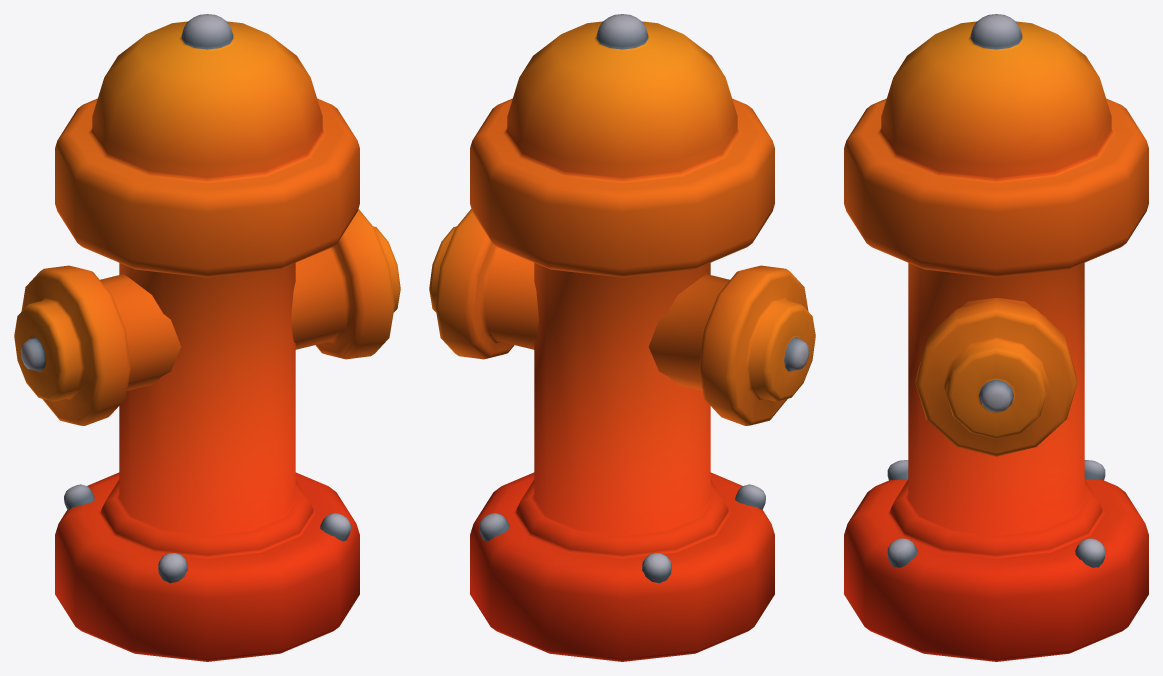
Rendered from mct_prop_hydrant.fbx.
The picture shows the model from 3 angles, left to right: view 1: azimuth 30°, elevation 25°; view 2: azimuth 150°, elevation 25°; view 3: azimuth 270°, elevation 25°; orthographic projection.
Parts seen in each view (by area): view 1: mct_hydrant; view 2: mct_hydrant; view 3: mct_hydrant.
Boxes of the visible parts, <box> form: mct_hydrant: <box>14,14,400,661</box>; mct_hydrant: <box>429,14,815,661</box>; mct_hydrant: <box>844,14,1148,661</box>.
Bounding box in the file's own units: 71.13 × 109 × 51.55.
